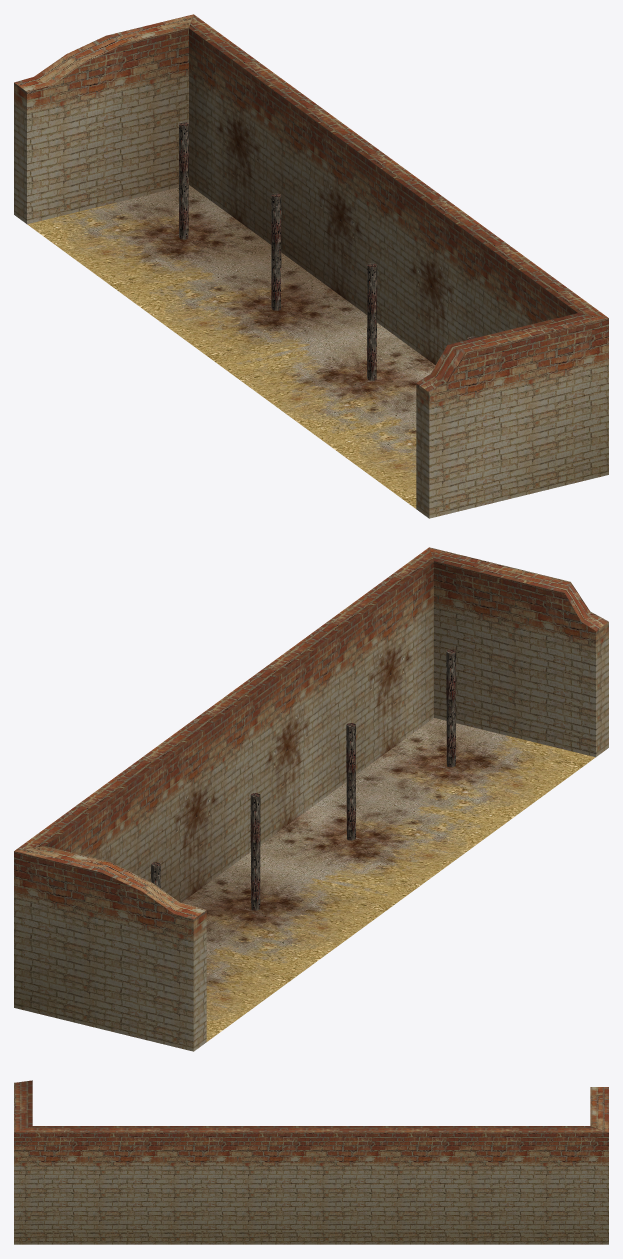
The model's file is M10_Z02Base_23_FirePosts.glb.
3 renders of one model, top to bottom at view 1: azimuth 30°, elevation 25°; view 2: azimuth 150°, elevation 25°; view 3: azimuth 270°, elevation 25°, orthographic. The views are drawn at different scales.
Visible parts, largest first — view 1: M10_Z02BASE_23_FIREPOSTS; view 2: M10_Z02BASE_23_FIREPOSTS; view 3: M10_Z02BASE_23_FIREPOSTS.
Part boxes in pixels (x1,y1,x2,y2): M10_Z02BASE_23_FIREPOSTS: (14, 14, 608, 518); M10_Z02BASE_23_FIREPOSTS: (14, 547, 608, 1051); M10_Z02BASE_23_FIREPOSTS: (14, 1080, 608, 1244).
Size of the model in its own units: 4 by 3.35 by 16.
4 materials, 4 textured.
